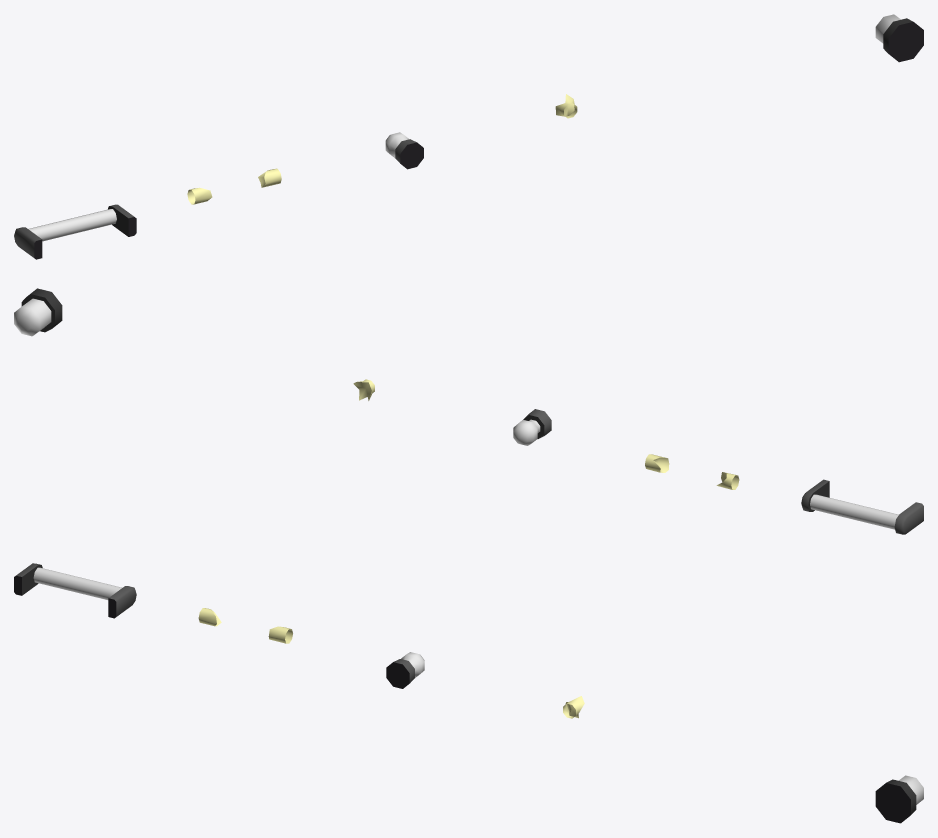
The model's file is light fixtures.fbx.
The picture shows the model from 3 angles, top to bottom: view 1: azimuth 30°, elevation 25°; view 2: azimuth 150°, elevation 25°; view 3: azimuth 330°, elevation 25°; orthographic projection.
Visible parts, largest first — view 1: Alarm Siren Fixture, Light Tube Attached, Light Tube Fixture, Light Tube Broken Attached, Light Bulb Fixture; view 2: Alarm Siren Fixture, Light Tube Attached, Light Tube Fixture, Light Tube Broken Attached, Light Bulb Attached; view 3: Alarm Siren Fixture, Light Tube Attached, Light Tube Fixture, Light Bulb Fixture, Light Tube Broken Attached.
Part boxes in pixels (x1,y1,x2,y2): Alarm Siren Fixture: (875,14,923,62); Light Tube Attached: (28,209,116,241); Light Tube Fixture: (14,204,136,259); Light Tube Broken Attached: (187,168,281,204); Light Bulb Fixture: (395,139,423,169); Alarm Siren Fixture: (14,288,62,336); Light Tube Attached: (810,494,898,529); Light Tube Fixture: (801,479,923,534); Light Tube Broken Attached: (645,454,739,489); Light Bulb Attached: (513,419,540,445); Alarm Siren Fixture: (875,775,923,823); Light Tube Attached: (33,567,122,599); Light Tube Fixture: (14,563,136,618); Light Bulb Fixture: (386,659,414,688); Light Tube Broken Attached: (198,608,292,643).
Size of the model in its own units: 5.42 by 0.2186 by 0.2494.
